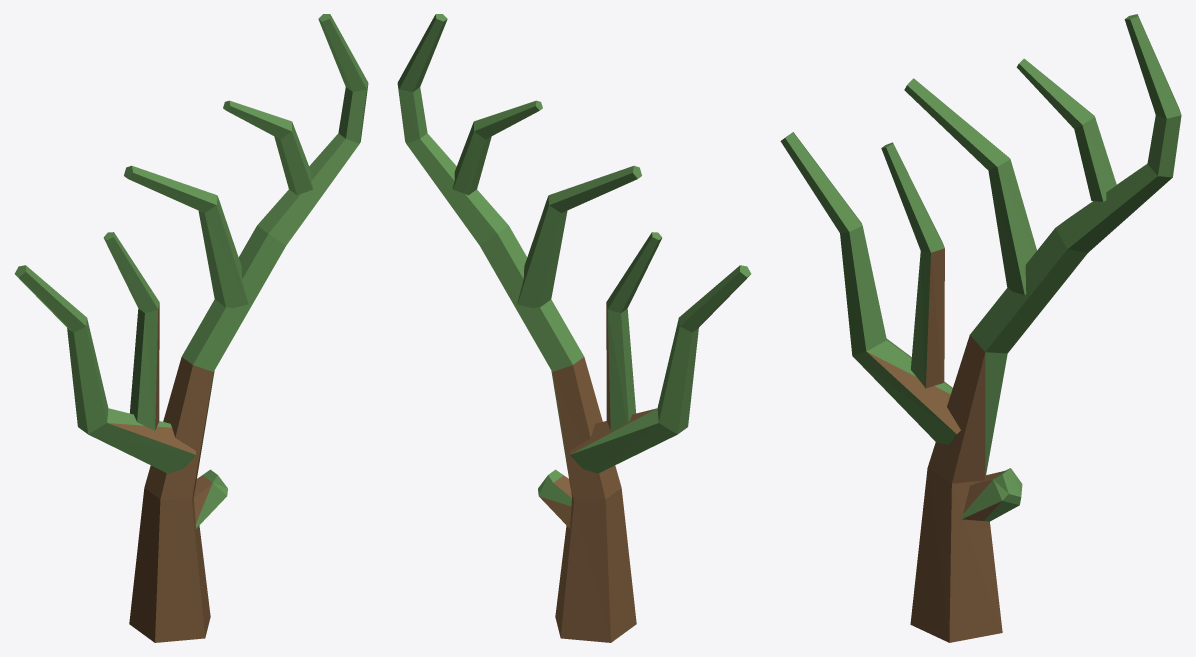
Rendered from tree3d-179.glb.
The picture shows the model from 3 angles, left to right: view 1: azimuth 30°, elevation 25°; view 2: azimuth 150°, elevation 25°; view 3: azimuth 330°, elevation 25°; orthographic projection. The views are drawn at different scales.
Visible parts, largest first — view 1: tree3d-179; view 2: tree3d-179; view 3: tree3d-179.
Part boxes in pixels (x1,y1,x2,y2): tree3d-179: [14, 14, 368, 642]; tree3d-179: [397, 14, 751, 642]; tree3d-179: [780, 14, 1181, 642].
Size of the model in its own units: 0.6418 by 1 by 0.1315.
